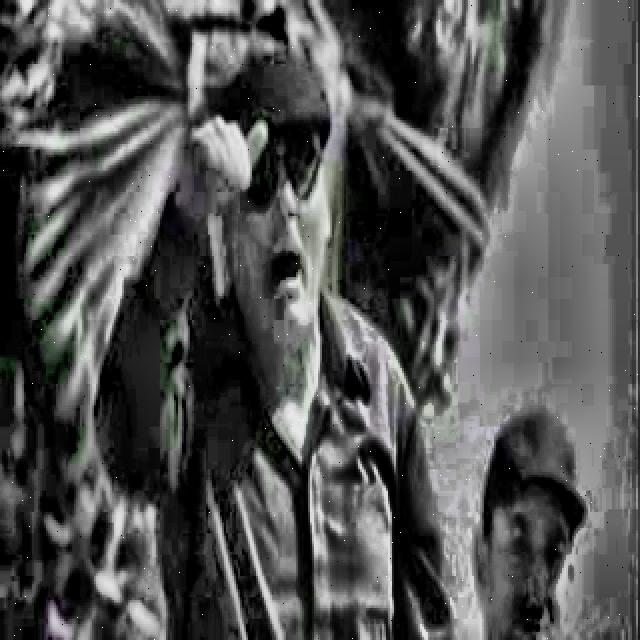T: (98, 39, 461, 638)
